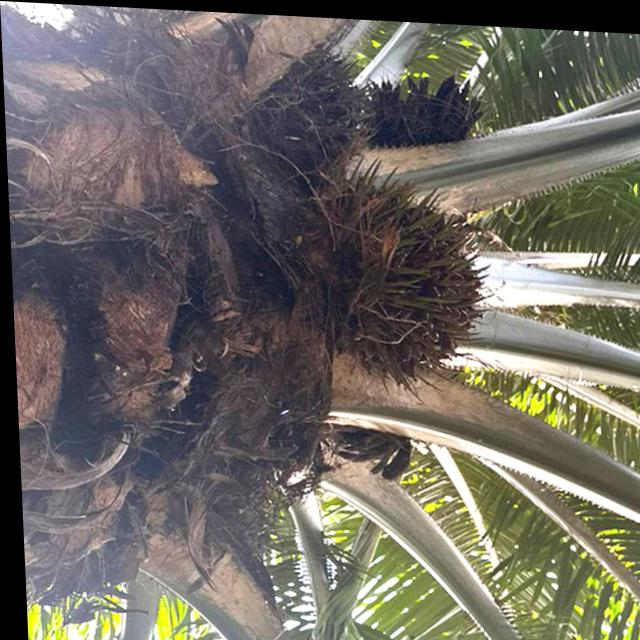ripe: (317, 188, 496, 387)
